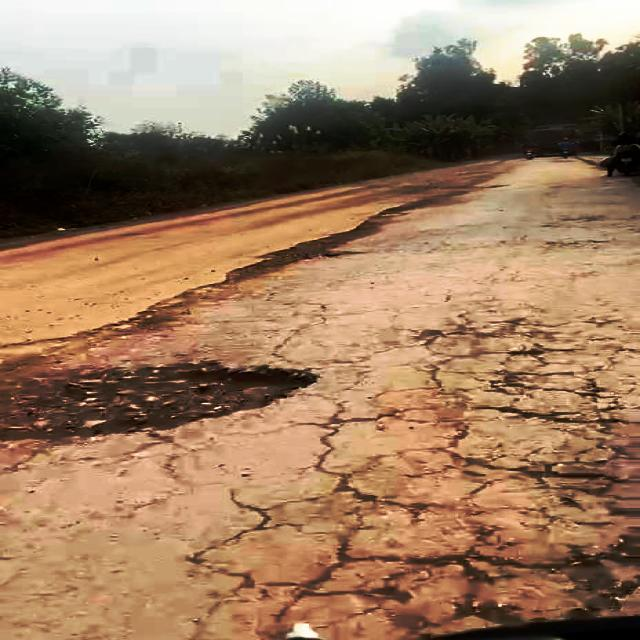pothole: (354, 531, 640, 640), (0, 364, 337, 445), (226, 223, 378, 284)
